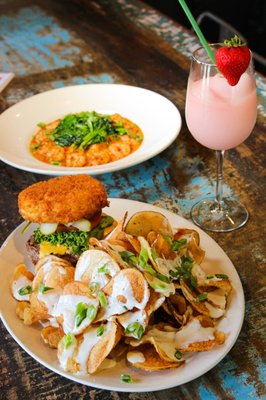curry: (31, 230, 90, 258)
